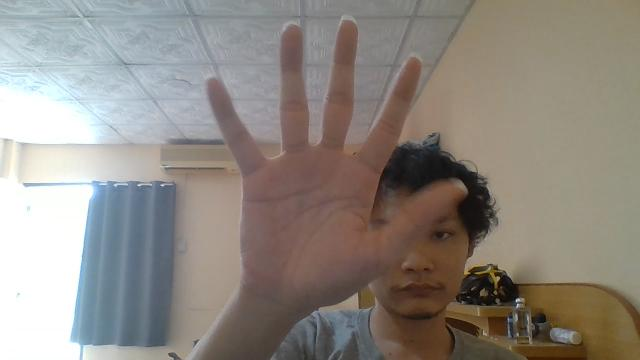Stop: (204, 15, 422, 313)
